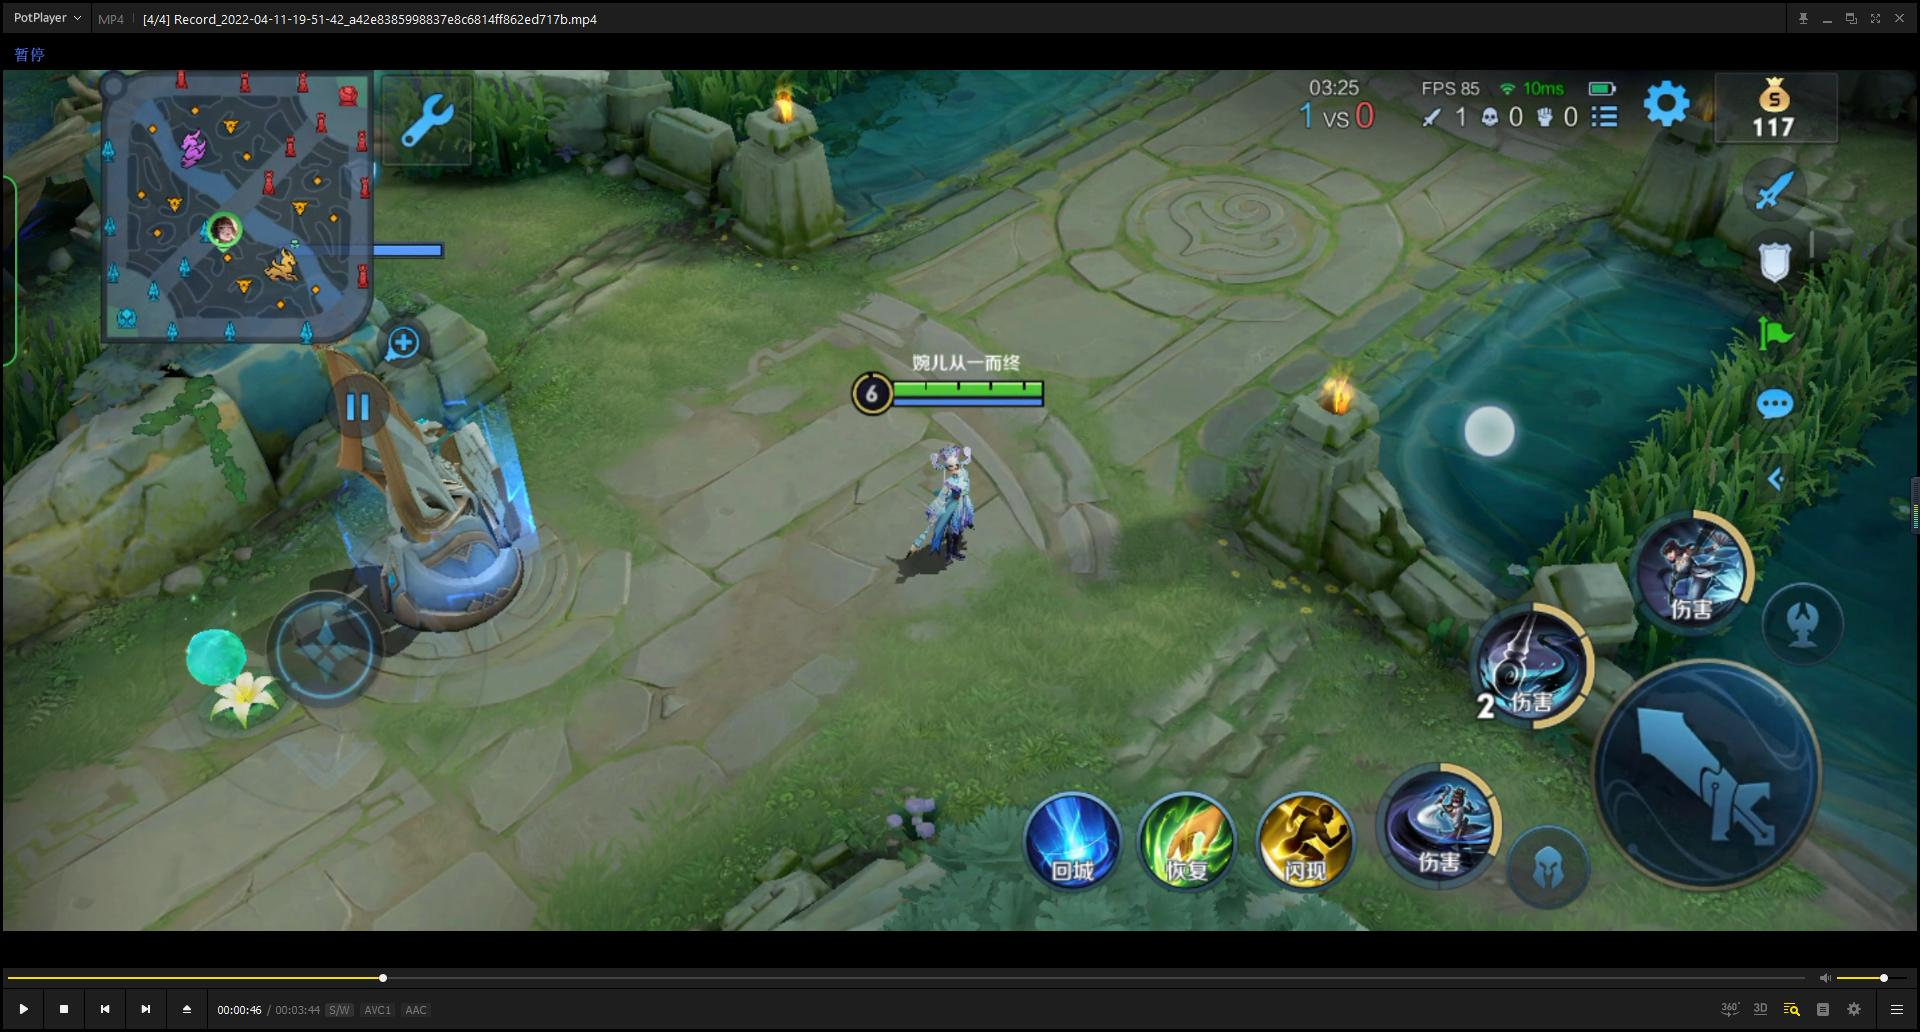Hero: (889, 430, 995, 577)
Tower: (280, 236, 553, 667)
